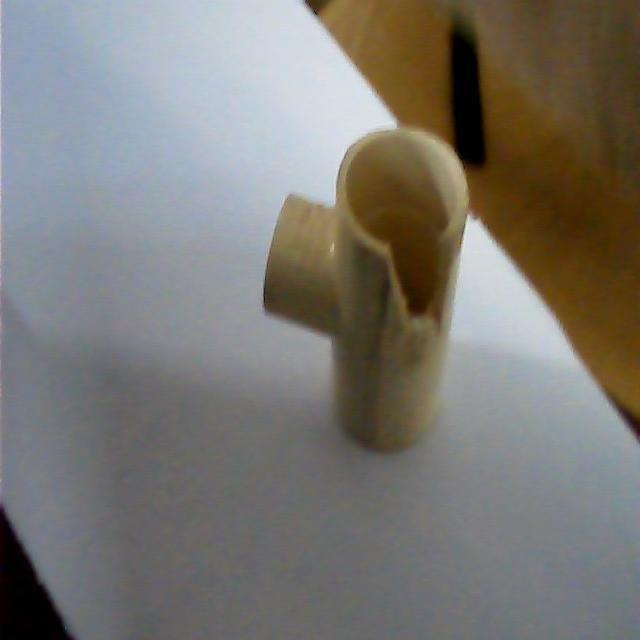Defective: (381, 224, 458, 339), (379, 217, 460, 317)
T Joint: (261, 127, 472, 456)
